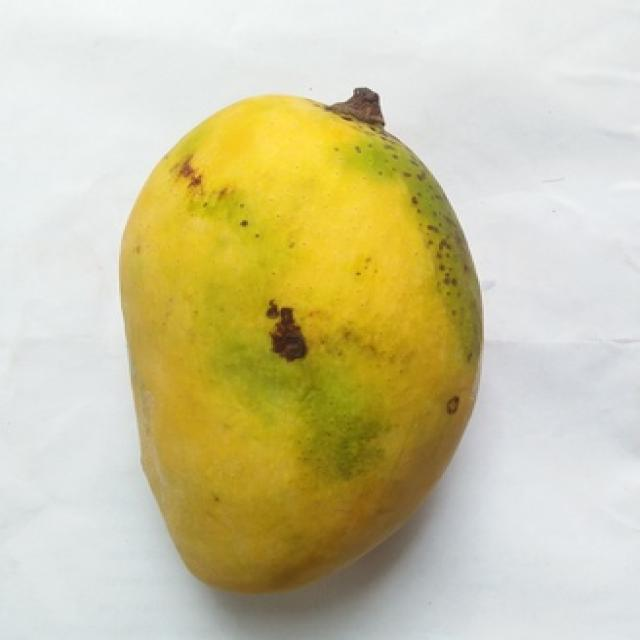Mango: (121, 96, 482, 591)
